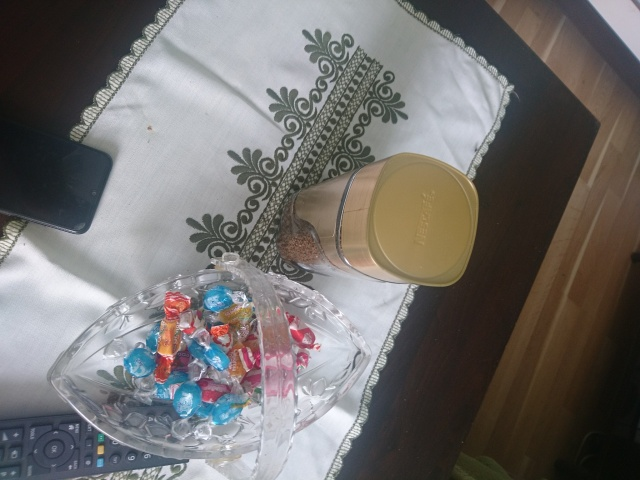Nescafe Gold 225g: (272, 150, 483, 292)
